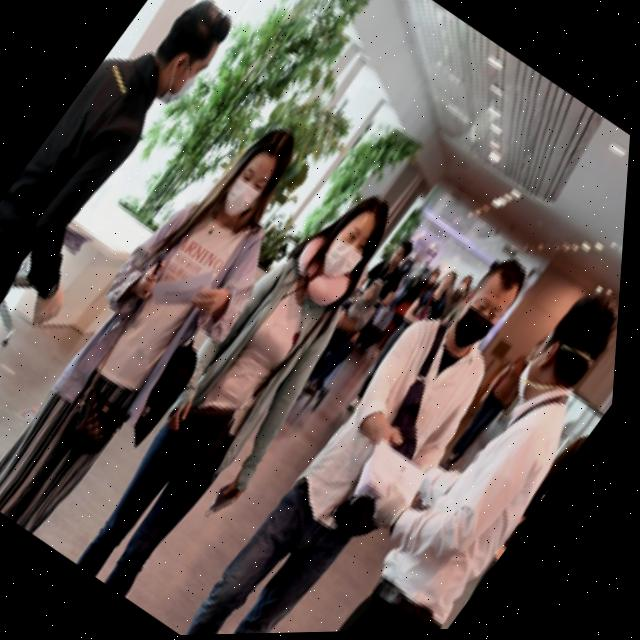Mask: (304, 223, 387, 300), (443, 298, 510, 364), (214, 174, 273, 232)
